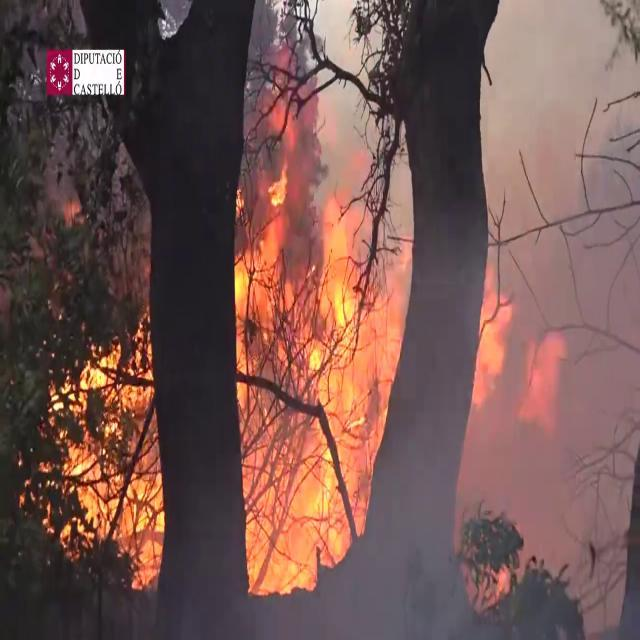Fire: (234, 164, 406, 596), (27, 313, 166, 587)
Smoke: (416, 4, 640, 552)
